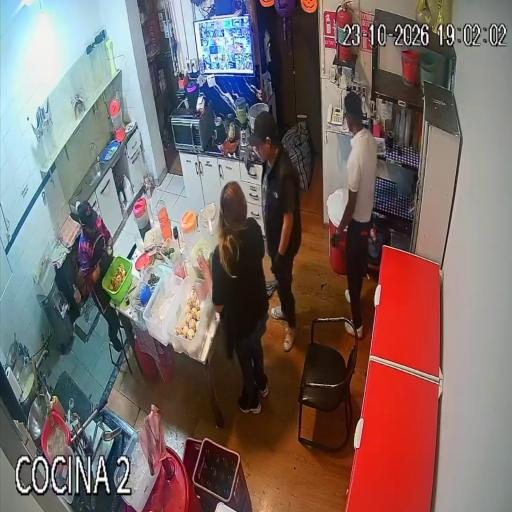Balde: (249, 103, 269, 130)
Cernidor: (200, 203, 217, 238)
Envase Llajua: (52, 395, 64, 419)
Jarra1: (133, 197, 151, 238)
Jarra2: (181, 210, 202, 269)
Jarra3: (187, 238, 212, 278)
Licuadora: (213, 117, 226, 145)
Licuadora2: (235, 97, 251, 148)
Microondas: (171, 105, 214, 151)
Persona1: (252, 113, 301, 351)
Persona2: (206, 182, 269, 413)
Persona3: (331, 92, 377, 337)
Persona5: (78, 201, 121, 351)
Taper: (102, 256, 132, 303)
Taper2: (130, 265, 166, 331)
Taper3: (143, 273, 183, 346)
Taper4: (165, 276, 215, 358)
Taper5: (114, 429, 159, 512)
